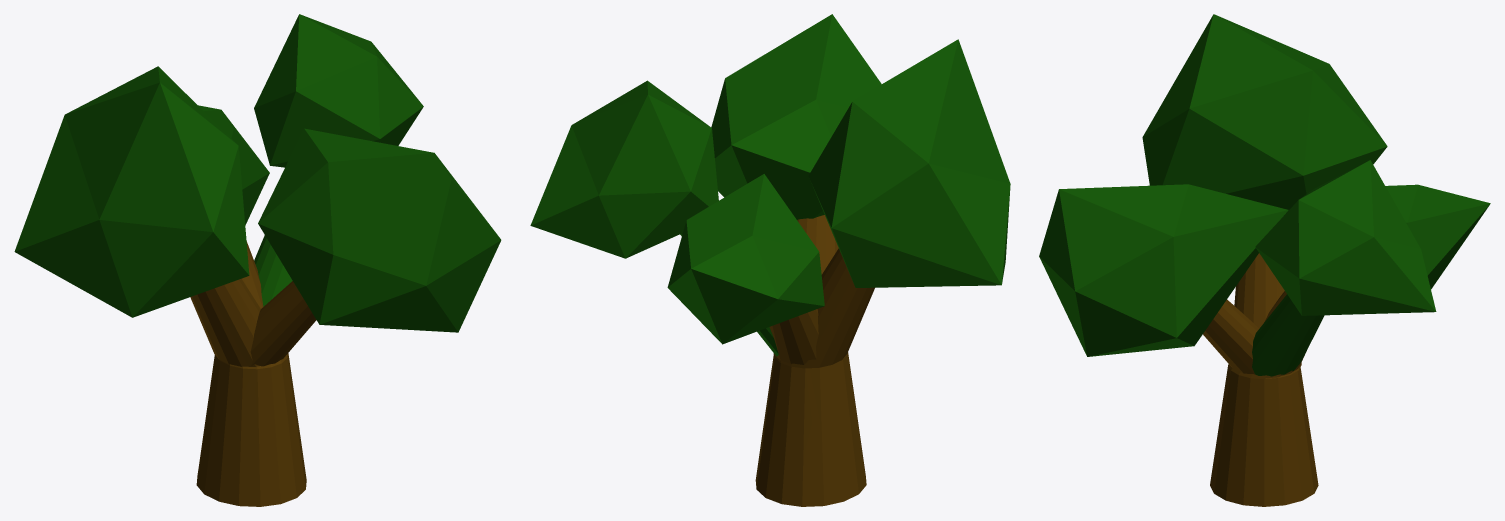
The model's file is Tree 2 (fixed).fbx.
The picture shows the model from 3 angles, left to right: view 1: azimuth 30°, elevation 25°; view 2: azimuth 150°, elevation 25°; view 3: azimuth 270°, elevation 25°; orthographic projection. The views are drawn at different scales.
Visible parts, largest first — view 1: Tree 2; view 2: Tree 2; view 3: Tree 2.
Part boxes in pixels (x1,y1,x2,y2): Tree 2: (14, 14, 501, 506); Tree 2: (530, 14, 1010, 506); Tree 2: (1039, 14, 1490, 506).
Size of the model in its own units: 602 by 626 by 639.
